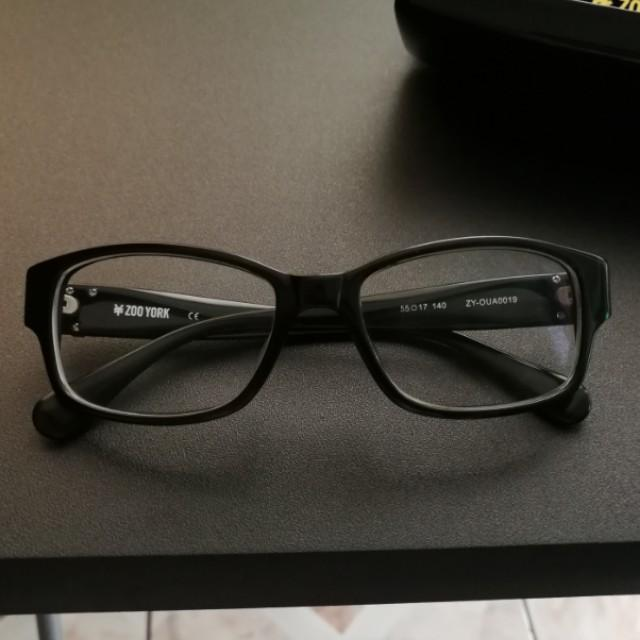glasses: (25, 240, 609, 446)
